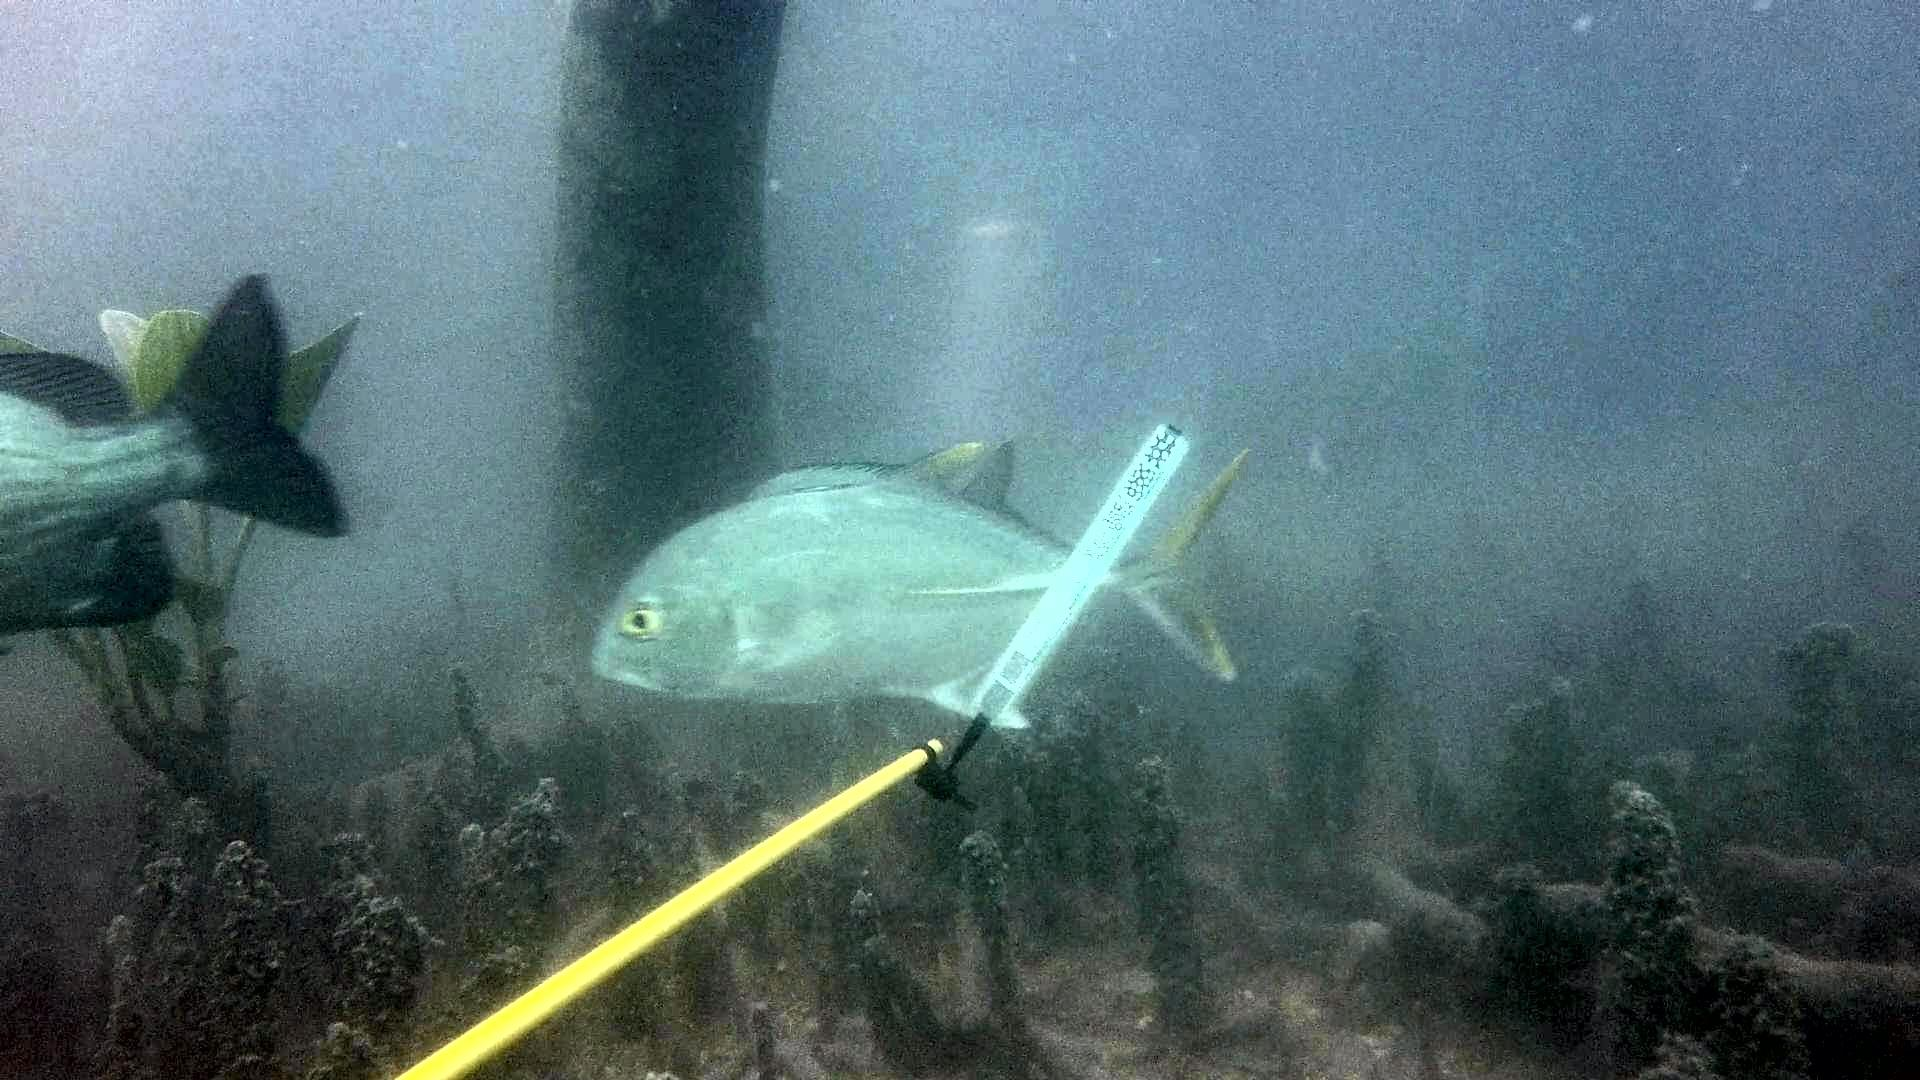acanthopagrus palmaris: (0, 268, 365, 671)
caranx: (578, 431, 1269, 741)
